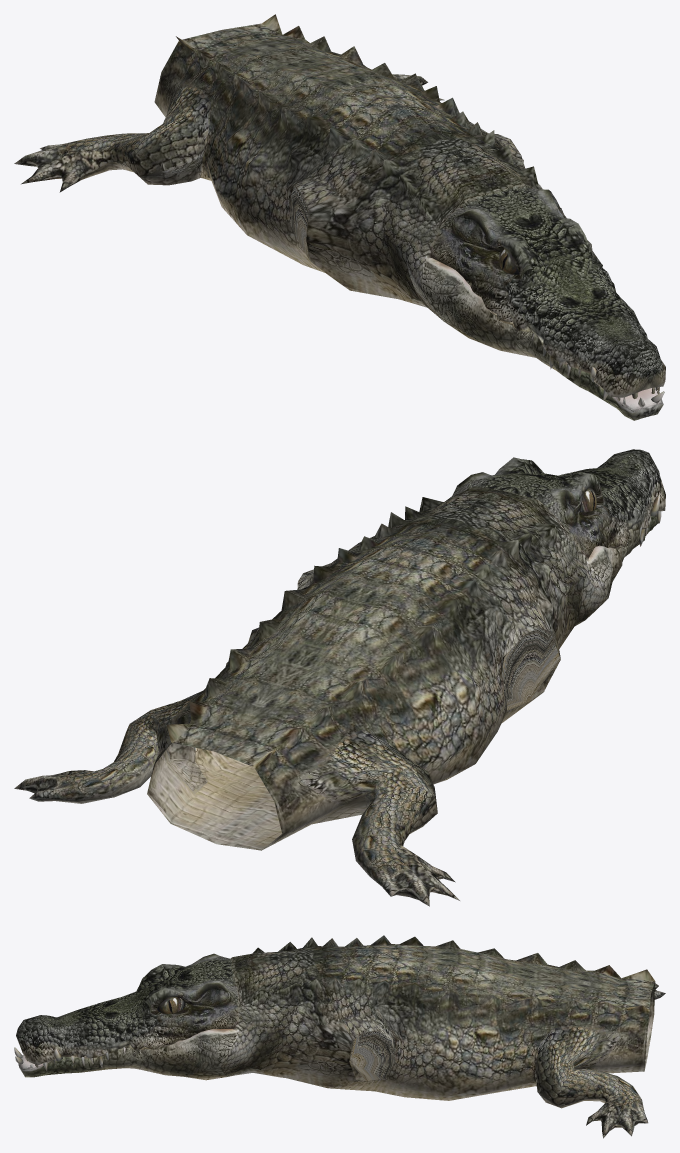
The model's file is cocodrilo.obj.
3 views of the same model, one above another, from view 1: azimuth 30°, elevation 25°; view 2: azimuth 150°, elevation 25°; view 3: azimuth 270°, elevation 25° (orthographic). The views are drawn at different scales.
Visible parts, largest first — view 1: polySurface8 polySurface6 polySurface4 Crocodile1:CrocodieCrocod; view 2: polySurface8 polySurface6 polySurface4 Crocodile1:CrocodieCrocod; view 3: polySurface8 polySurface6 polySurface4 Crocodile1:CrocodieCrocod.
Part boxes in pixels (x1,y1,x2,y2): polySurface8 polySurface6 polySurface4 Crocodile1:CrocodieCrocod: (14,14,665,420); polySurface8 polySurface6 polySurface4 Crocodile1:CrocodieCrocod: (14,449,665,906); polySurface8 polySurface6 polySurface4 Crocodile1:CrocodieCrocod: (14,935,665,1138).
Size of the model in its own units: 1.11 by 0.4223 by 2.
1 material, 1 textured.
